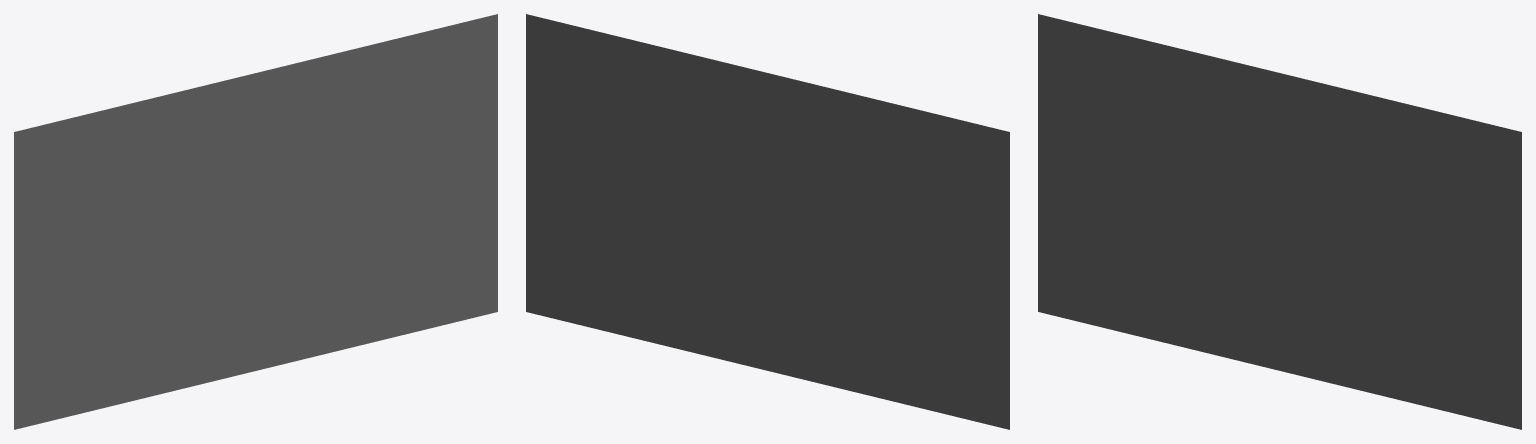
Rendered from Itr_Wall_Color_02.FBX.
3 views of the same model, side by side, from view 1: azimuth 30°, elevation 25°; view 2: azimuth 150°, elevation 25°; view 3: azimuth 330°, elevation 25° (orthographic).
Visible parts, largest first — view 1: Itr_Wall_Color_02; view 2: Itr_Wall_Color_02; view 3: Itr_Wall_Color_02.
Part boxes in pixels (left/top/right/bottom): Itr_Wall_Color_02: left=14, top=14, right=497, bottom=429; Itr_Wall_Color_02: left=526, top=14, right=1009, bottom=429; Itr_Wall_Color_02: left=1038, top=14, right=1521, bottom=429.
Bounding box in the file's own units: 118 × 69.49 × 3.05e-05.
